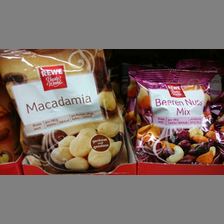nuts: (1, 49, 129, 172), (132, 70, 221, 163)
